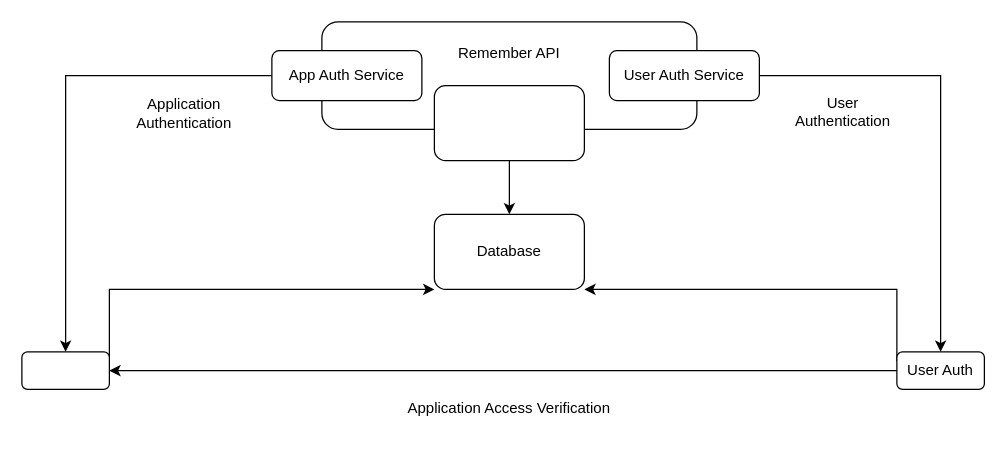
This 1006x449 diagram has some shape labels left out. Each missing label, with the centre of its shape:
App Auth: pixel 65 370
Core Module: pixel 508 122
